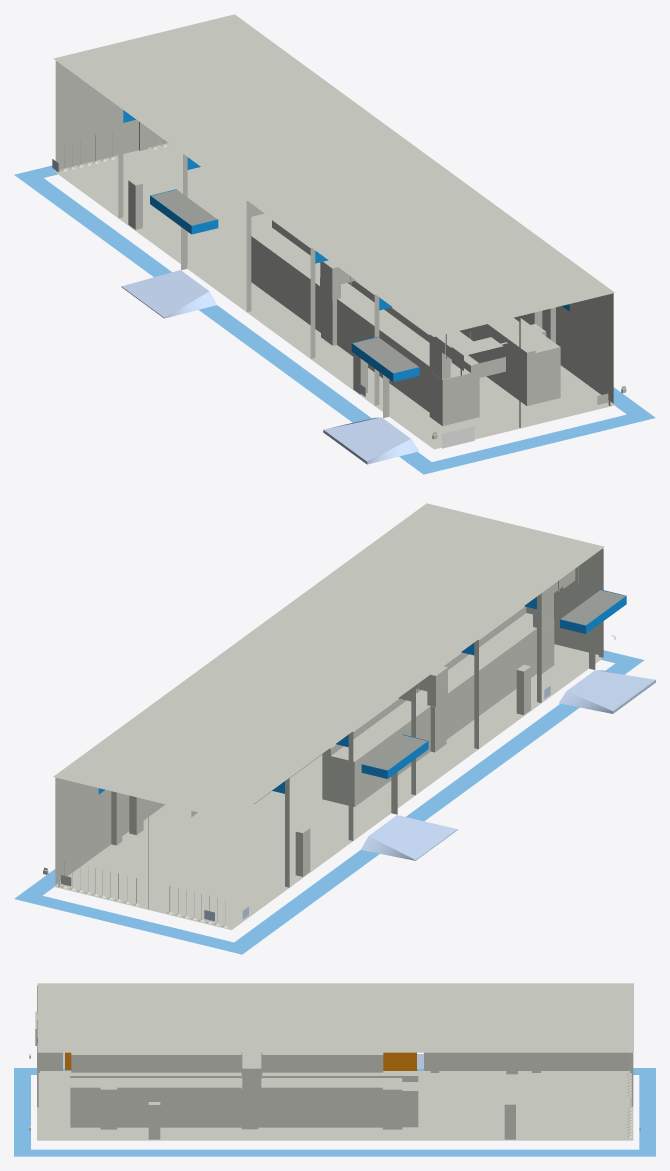
Rendered from 配电室.glb.
3 views of the same model, one above another, from view 1: azimuth 30°, elevation 25°; view 2: azimuth 150°, elevation 25°; view 3: azimuth 270°, elevation 25° (orthographic). The views are drawn at different scales.
Parts seen in each view (by area): view 1: 配电室.001; view 2: 配电室.001; view 3: 配电室.001.
Boxes of the visible parts, box(x1,y1,x2,y2) form: 配电室.001: box(14, 14, 655, 474); 配电室.001: box(14, 503, 655, 954); 配电室.001: box(14, 983, 655, 1156).
Bounding box in the file's own units: 12.75 × 5.5 × 33.9.
